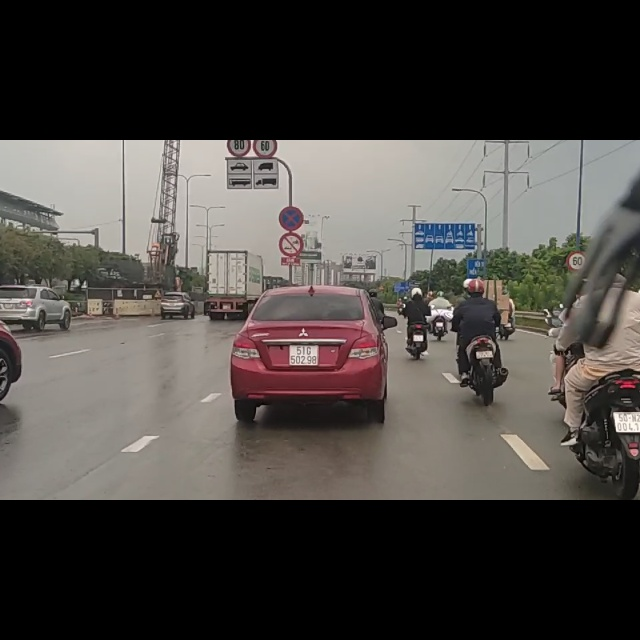bien_cam: (279, 117, 304, 160), (254, 1, 278, 30)
